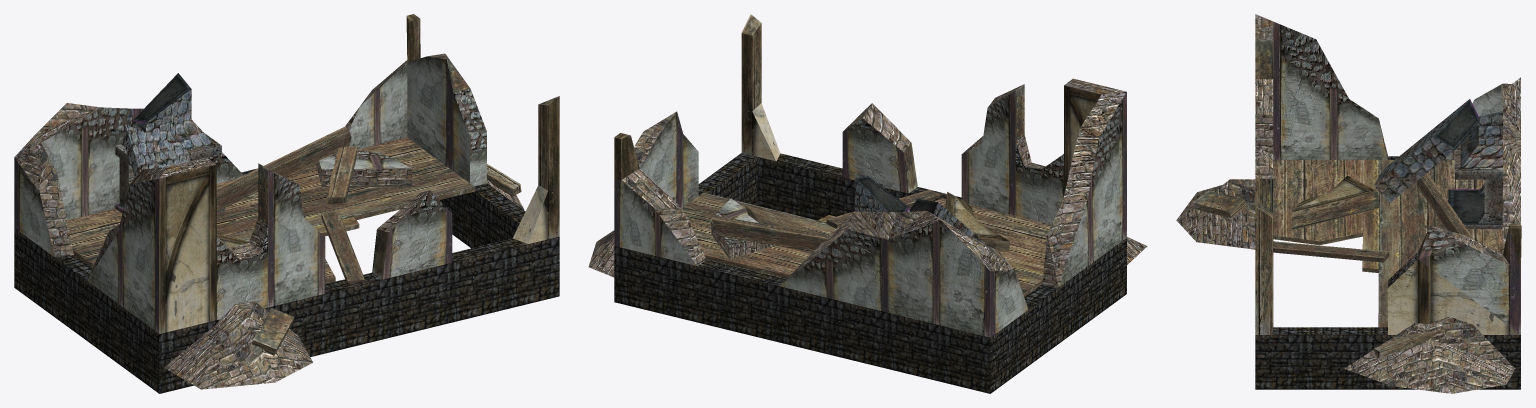
File: S_Ruin05.glb
3 renders of one model, left to right at view 1: azimuth 30°, elevation 25°; view 2: azimuth 150°, elevation 25°; view 3: azimuth 270°, elevation 25°, orthographic. The views are drawn at different scales.
Visible parts, largest first — view 1: S_Ruin05-col; view 2: S_Ruin05-col; view 3: S_Ruin05-col.
Part boxes in pixels (x1=…): S_Ruin05-col: x1=14, y1=14, x2=559, y2=393; S_Ruin05-col: x1=588, y1=14, x2=1147, y2=393; S_Ruin05-col: x1=1176, y1=14, x2=1521, y2=393.
Size of the model in its own units: 7.99 by 3.6 by 5.72.
10 materials, 10 textured.
